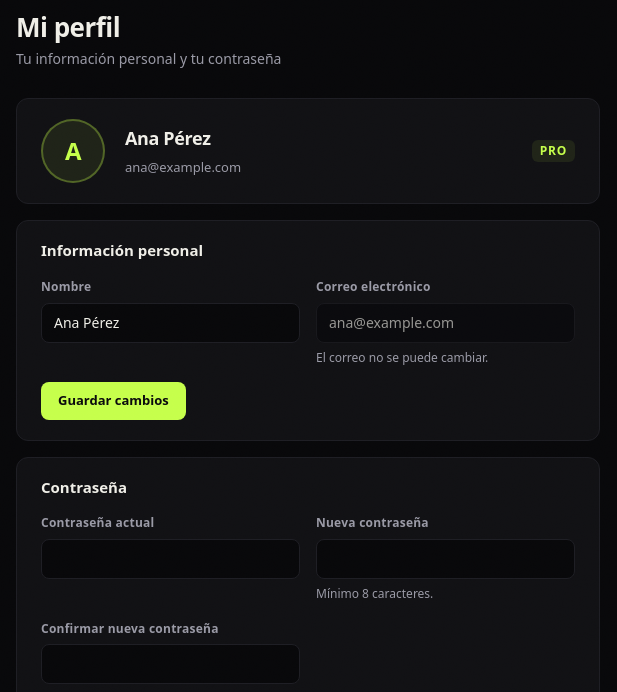
Test: Mi perfil › edita el nombre con su etiqueta y refresca la sesión
The width and height of the screenshot is (617, 692).
Replace the text in the field labelled "Nombre" with "Ana P.": (170, 323) x1=41 y1=303 x2=300 y2=343
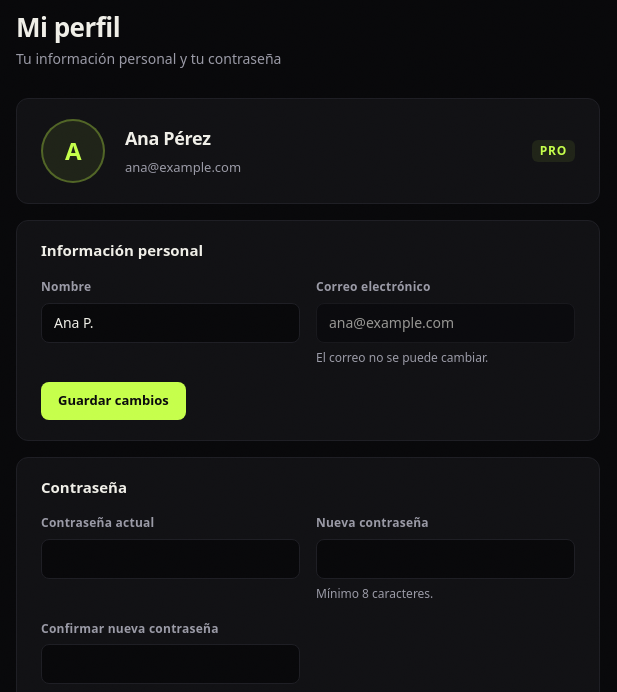
Click the button "Guardar cambios": (113, 401) x1=41 y1=382 x2=186 y2=420
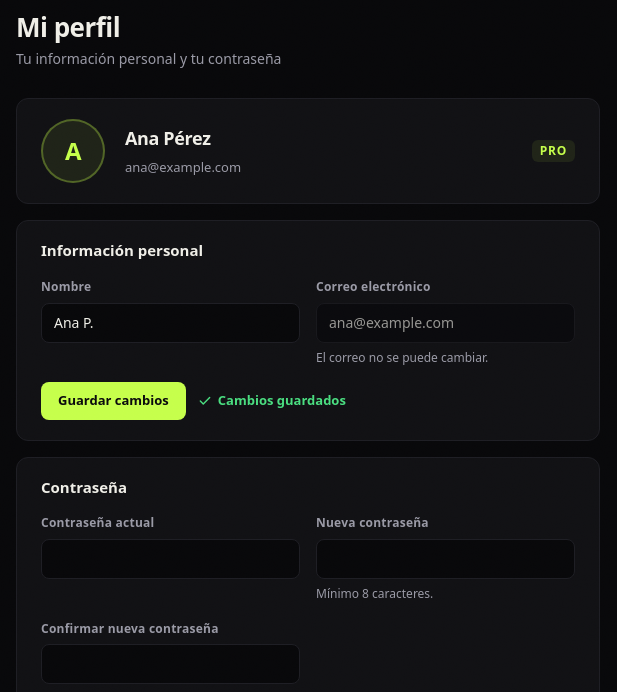
expect the message reads "Cambios guardados": met, box x1=218 y1=391 x2=346 y2=409
